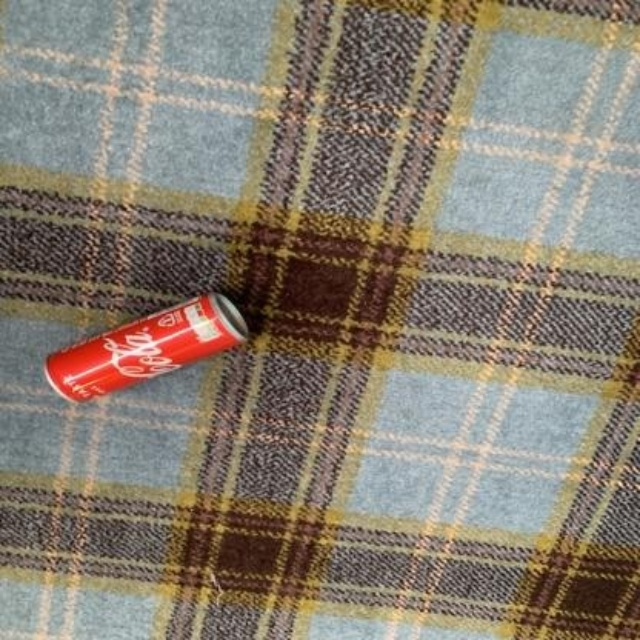trash: (45, 294, 246, 400)
